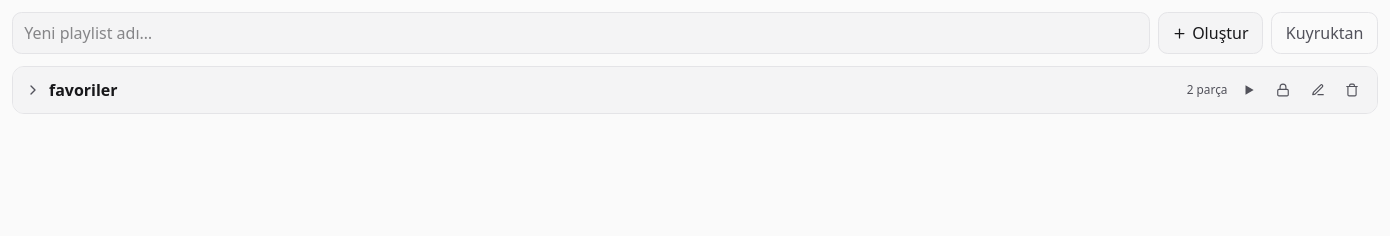
Test: playlist açılınca parçaları gösterir
The image size is (1390, 236).
Click the button "favoriler 2 parça".
click(83, 90)  # box [23, 76, 1230, 105]
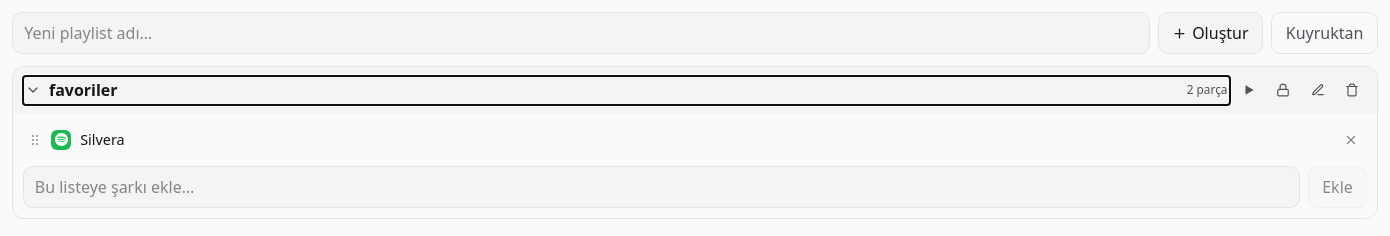
Check: the text "Silvera" is shown, box [80, 130, 125, 149]
